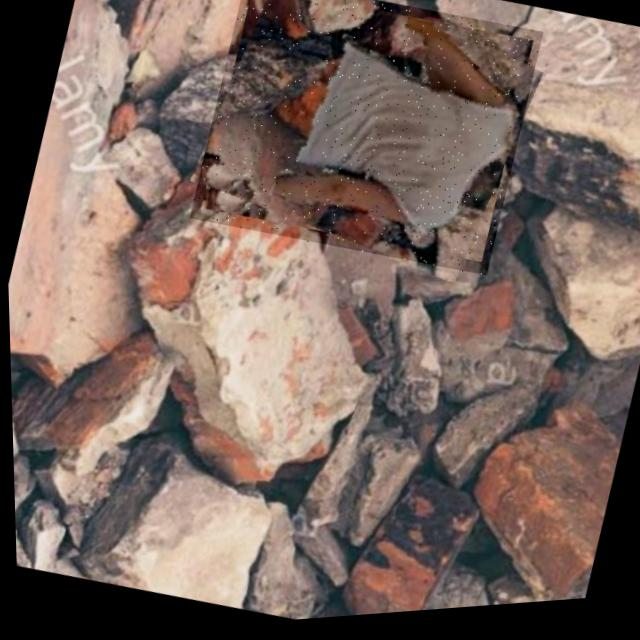Person in Rubble: (181, 0, 547, 300)
